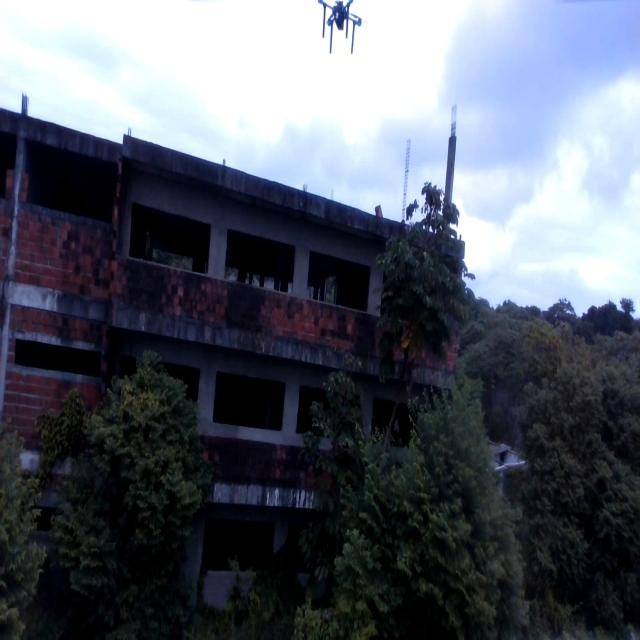-uav-: (313, 0, 374, 70)
